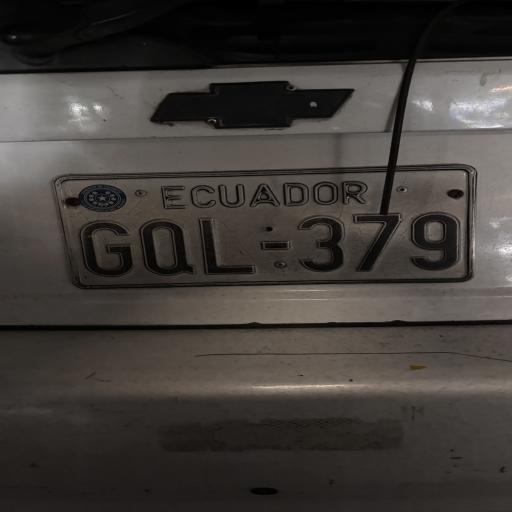license_plate: (57, 165, 475, 287)
